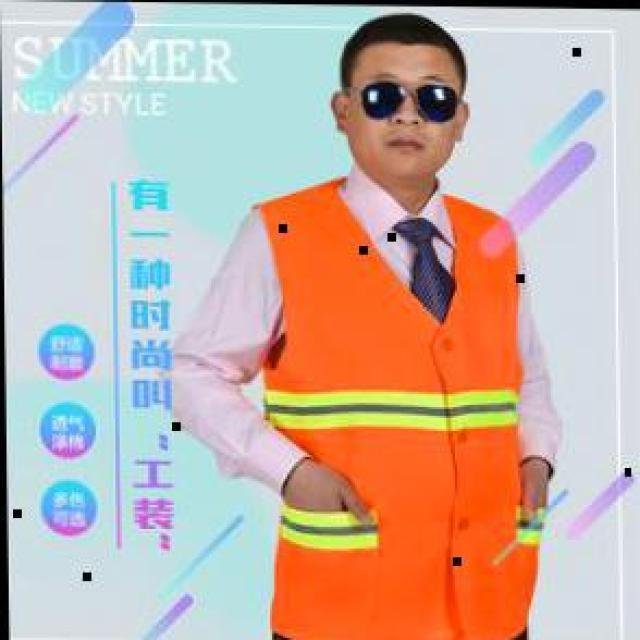safety_helmet: (270, 188, 529, 636)
